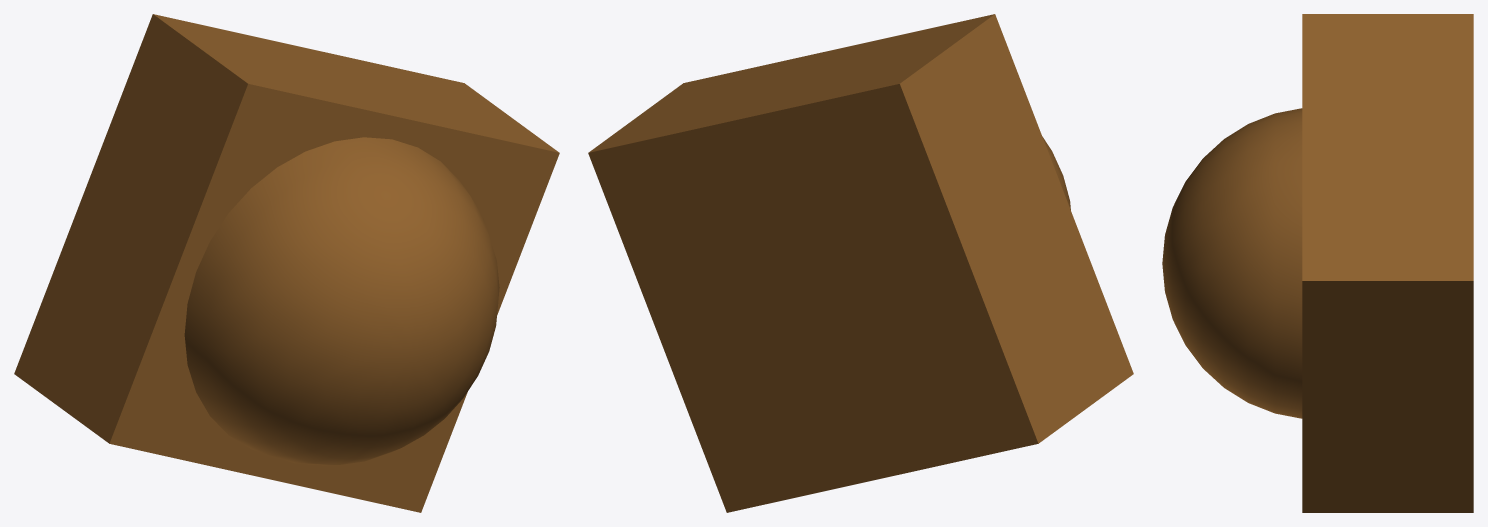
3 renders of one model, left to right at view 1: azimuth 30°, elevation 25°; view 2: azimuth 150°, elevation 25°; view 3: azimuth 270°, elevation 25°, orthographic. The views are drawn at different scales.
Visible parts, largest first — view 1: block; view 2: block; view 3: block.
Part boxes in pixels (left/top/right/bottom): block: left=14, top=14, right=559, bottom=512; block: left=588, top=14, right=1133, bottom=512; block: left=1162, top=14, right=1473, bottom=512.
Size of the model in its own units: 0.03 by 0.03 by 0.02.
